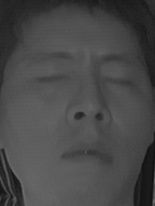blink: (29, 66, 69, 87), (102, 70, 137, 91)
mouth: (55, 136, 116, 175)
